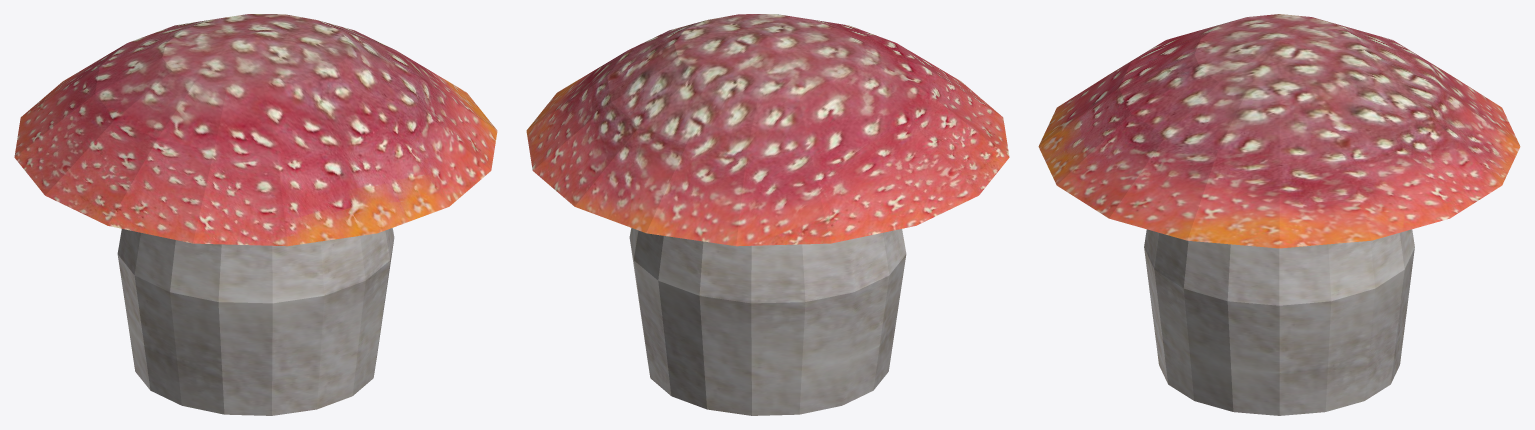
The model's file is mushroom.gltf.
3 views of the same model, side by side, from view 1: azimuth 30°, elevation 25°; view 2: azimuth 150°, elevation 25°; view 3: azimuth 270°, elevation 25° (orthographic).
Parts seen in each view (by area): view 1: Cone, Cylinder; view 2: Cone, Cylinder; view 3: Cone, Cylinder.
Part boxes in pixels (left/top/right/bottom): Cone: left=14, top=14, right=497, bottom=246; Cylinder: left=117, top=228, right=394, bottom=415; Cone: left=526, top=14, right=1009, bottom=246; Cylinder: left=629, top=228, right=906, bottom=415; Cone: left=1038, top=14, right=1520, bottom=248; Cylinder: left=1144, top=229, right=1414, bottom=415.
Size of the model in its own units: 4 by 2.97 by 4.
2 materials, 2 textured.
